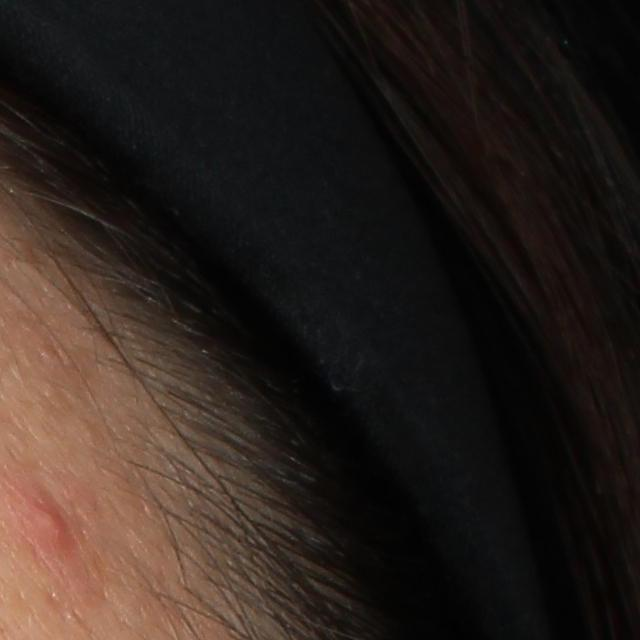papule: (27, 502, 78, 551)
